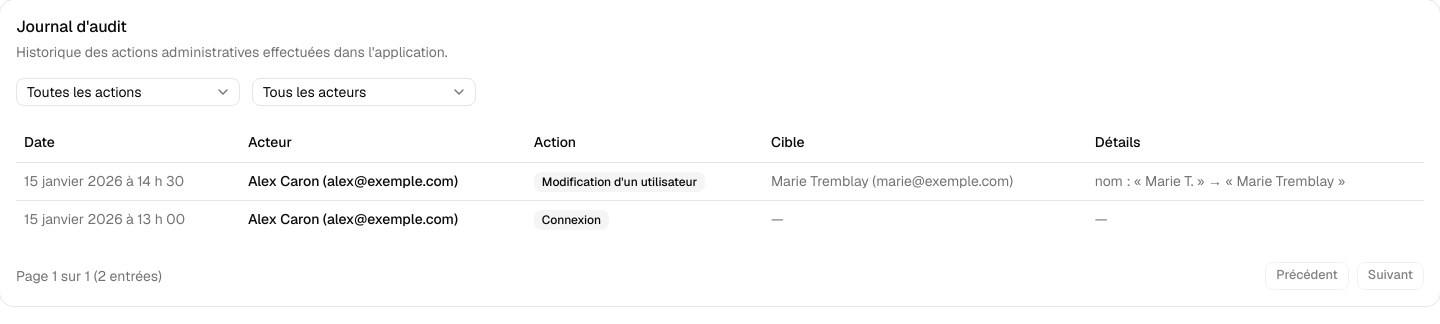
Scenario: AuditLogTable — filtres › propose les acteurs fournis dans le filtre Acteur
The image size is (1440, 324).
Click the dropdown labelled "Tous les acteurs ▼": [364, 92] box left=252, top=78, right=476, bottom=106
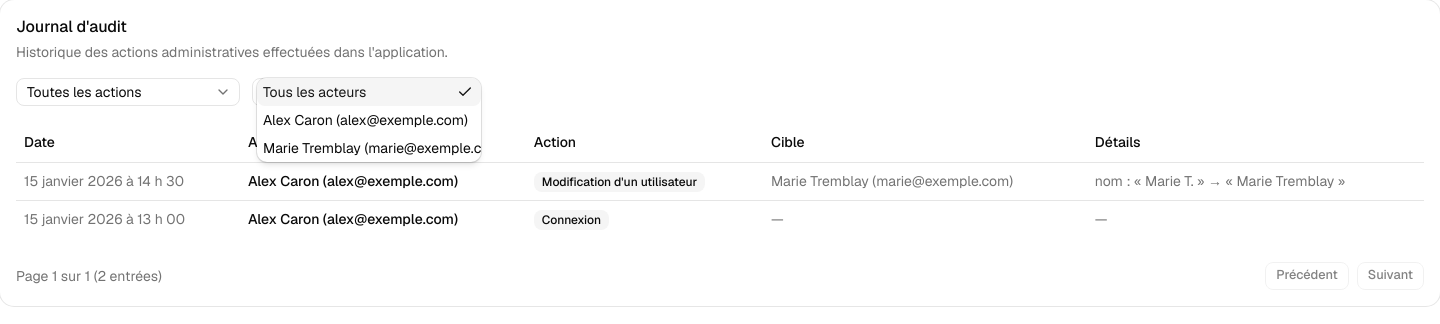
Expected: the option "Marie Tremblay (marie@exemple.com)" is shown, left=257, top=134, right=481, bottom=162
